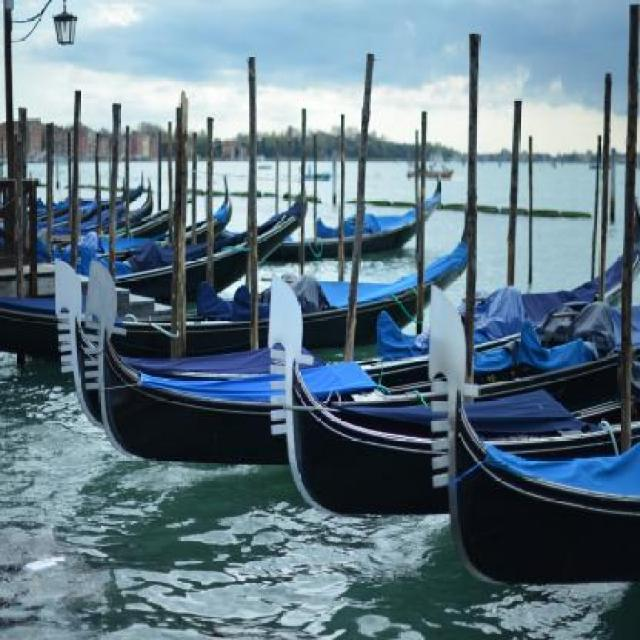ship: (83, 254, 634, 463), (269, 271, 637, 517), (0, 202, 466, 361), (428, 283, 635, 583), (374, 198, 638, 358), (119, 183, 308, 302), (214, 172, 440, 259)
